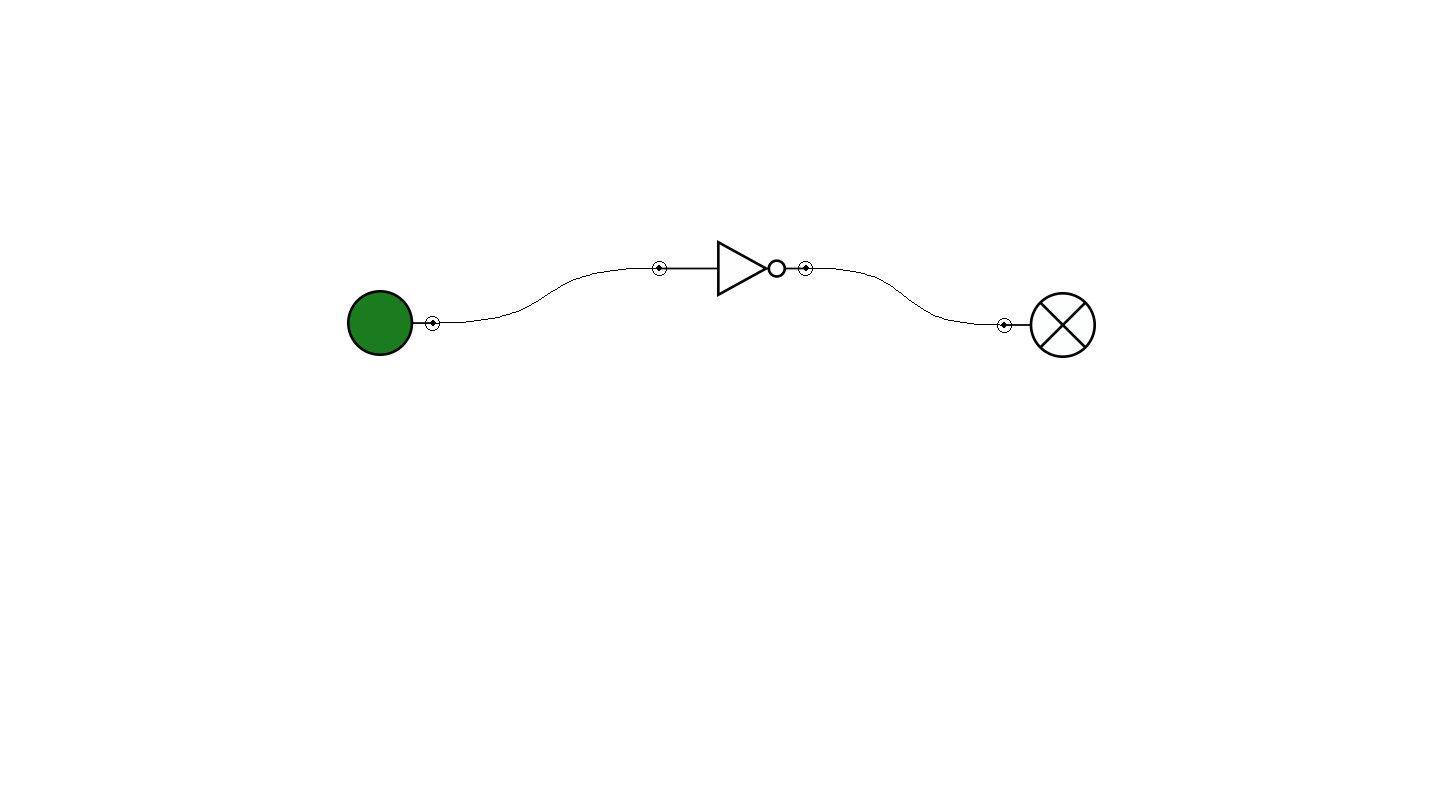bulb: (997, 292, 1096, 358)
not: (652, 240, 813, 297)
switch_True: (347, 290, 440, 356)
